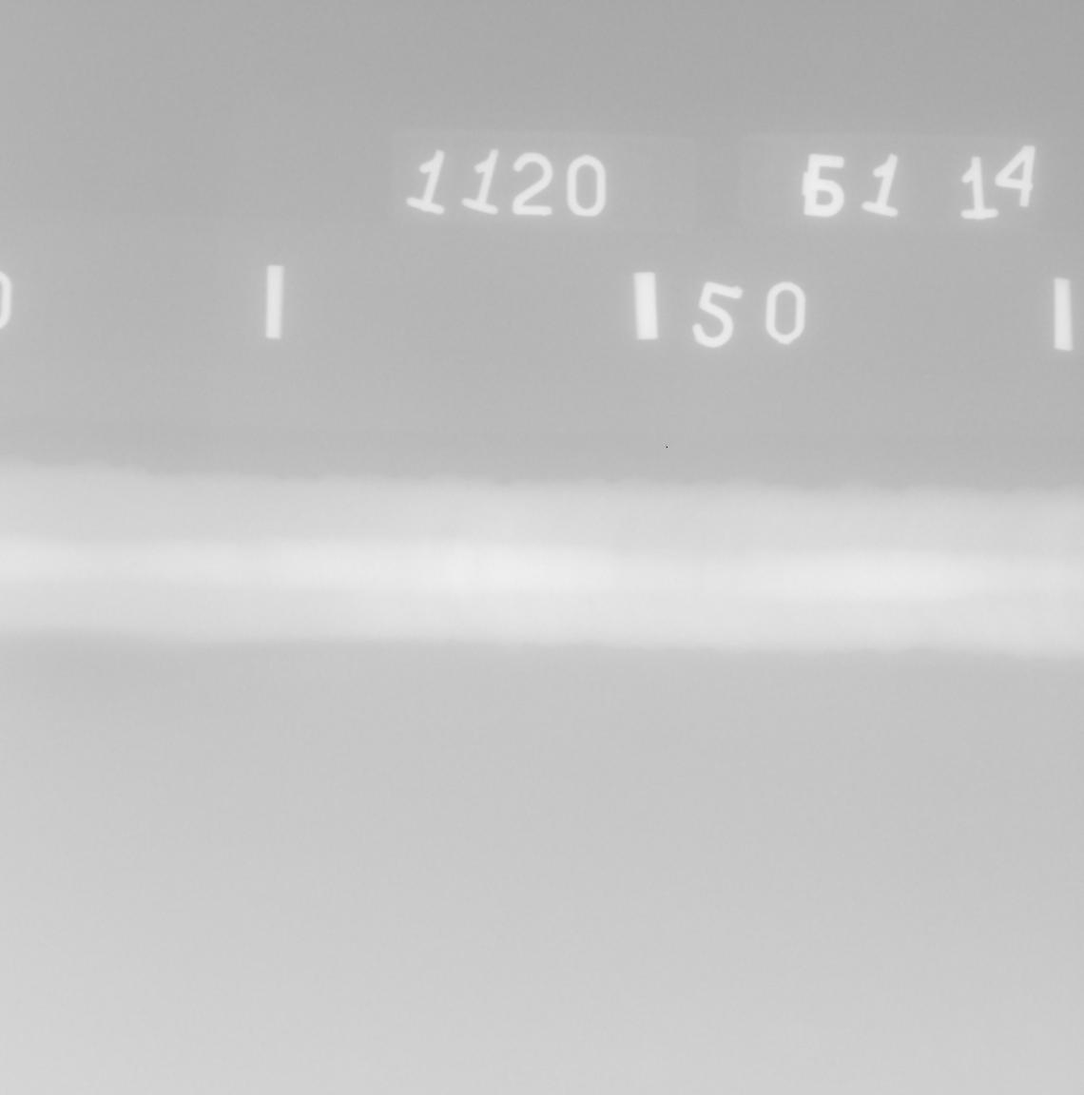Pore/Porosity: (1010, 558, 1015, 563), (588, 599, 592, 603)
